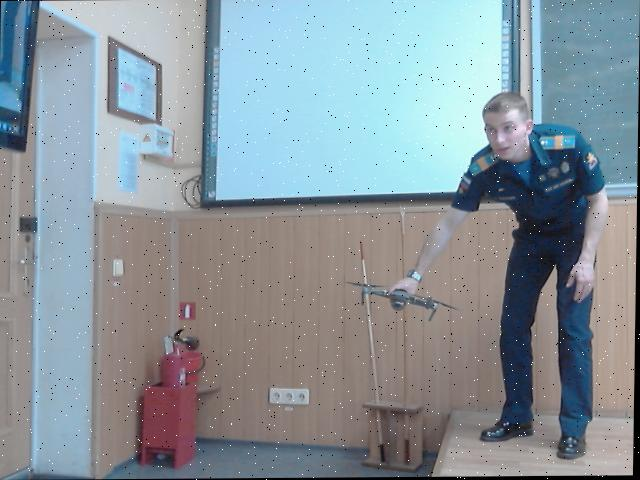drone: (335, 274, 456, 322)
